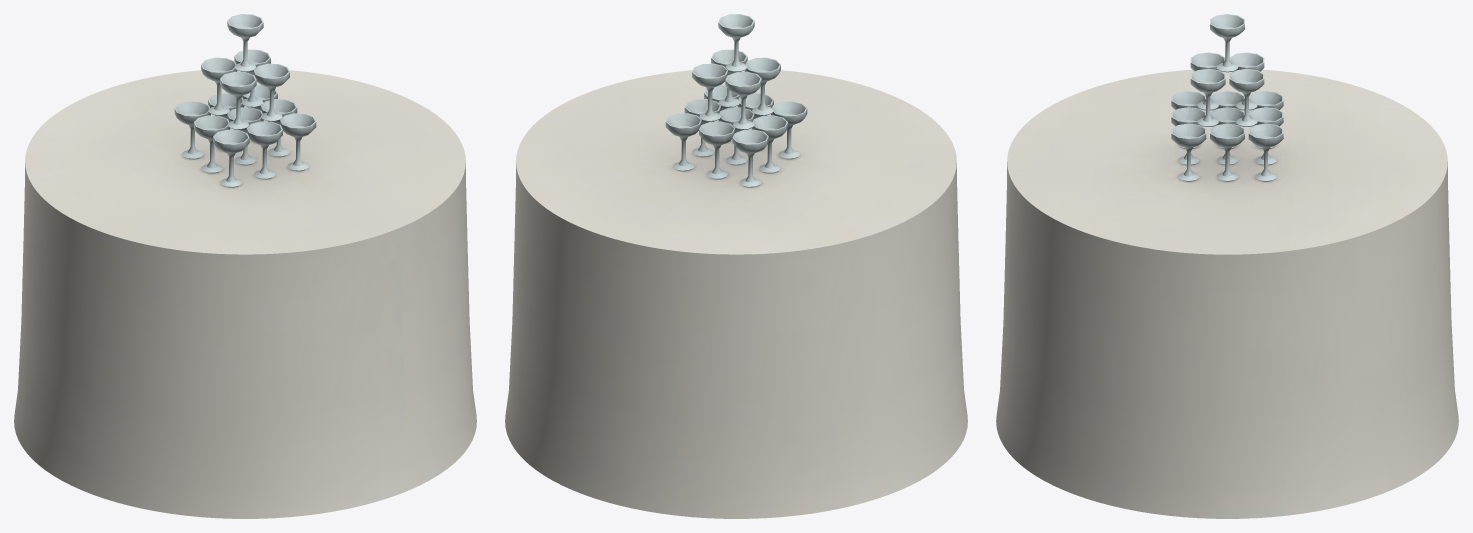
Rendered from champagne_tower.glb.
The picture shows the model from 3 angles, left to right: view 1: azimuth 30°, elevation 25°; view 2: azimuth 150°, elevation 25°; view 3: azimuth 270°, elevation 25°; orthographic projection.
Parts seen in each view (by area): view 1: champagne_tower; view 2: champagne_tower; view 3: champagne_tower.
Boxes of the visible parts, box(x1,y1,x2,y2) form: champagne_tower: box(14, 14, 476, 518); champagne_tower: box(505, 14, 967, 518); champagne_tower: box(996, 14, 1458, 518).
Size of the model in its own units: 1.26 by 1.2 by 1.26.
Materials: 1 (1 with a texture image).
